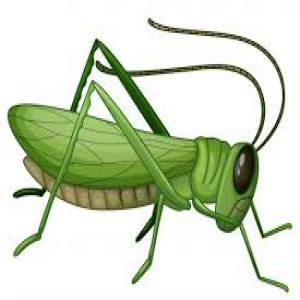locust: (15, 55, 280, 268)
